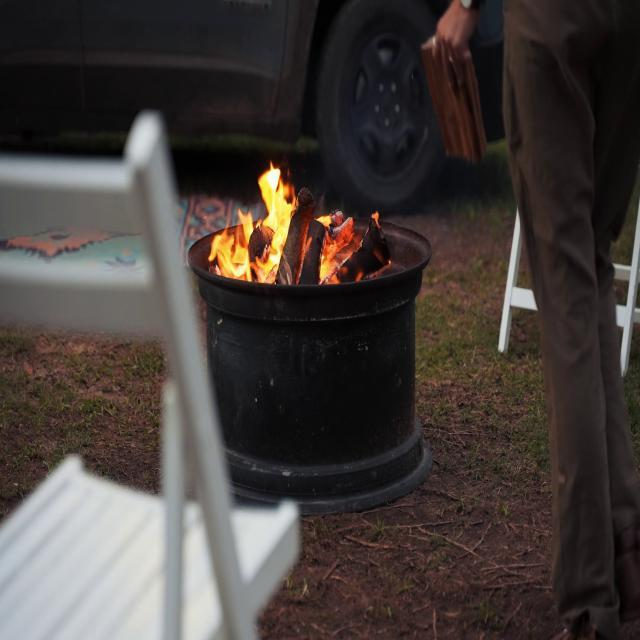Fire: (210, 170, 360, 282)
